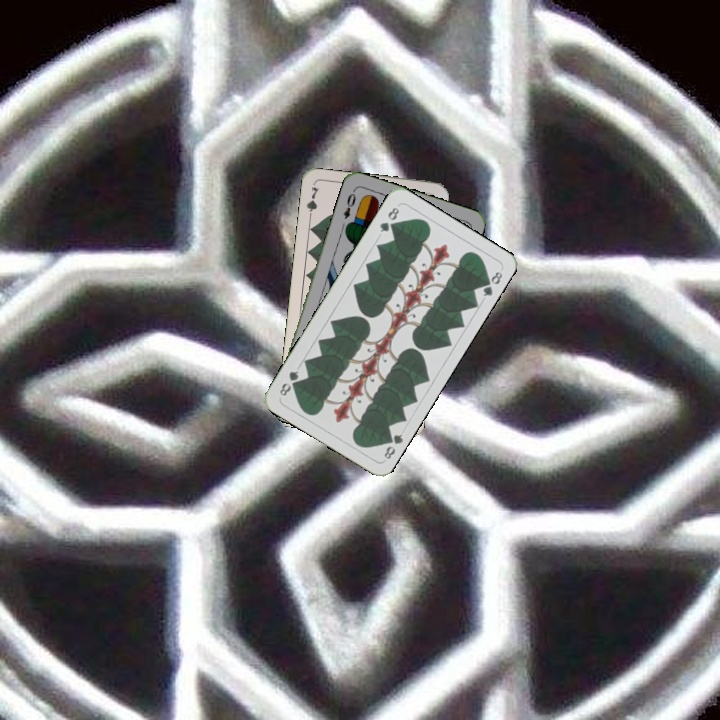EO: (339, 186, 359, 221)
G7: (302, 183, 322, 223)
G8: (376, 203, 402, 235), (380, 429, 405, 462)
